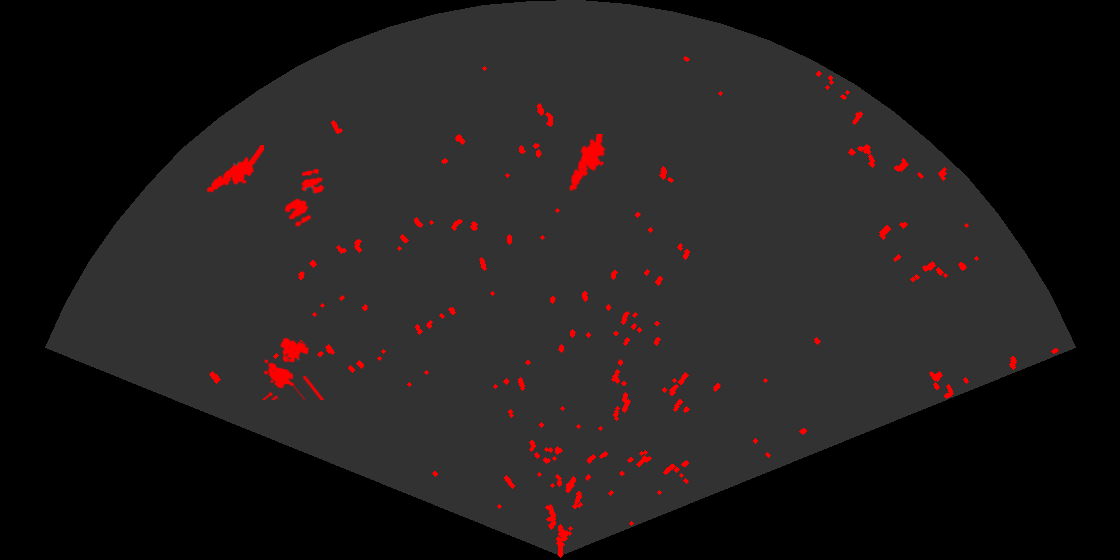ball: (283, 197, 313, 228), (299, 167, 326, 195)
cage: (260, 336, 326, 400)
frogman: (205, 145, 264, 194), (568, 134, 607, 194)
